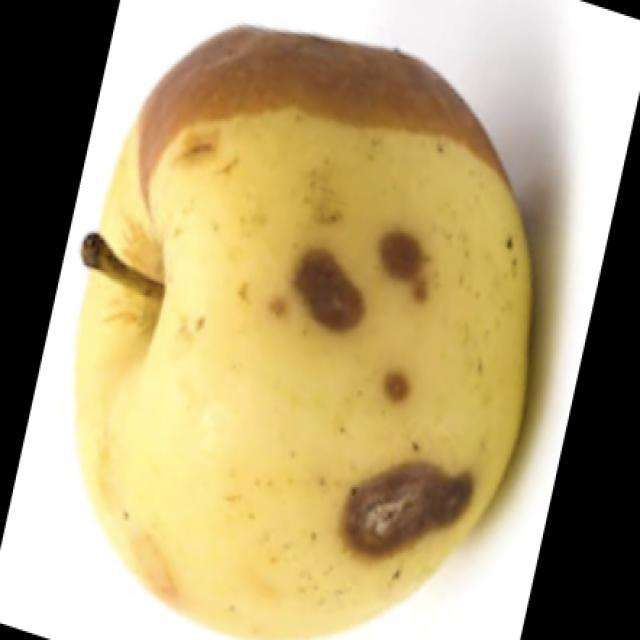Rotten: (91, 30, 576, 640)
